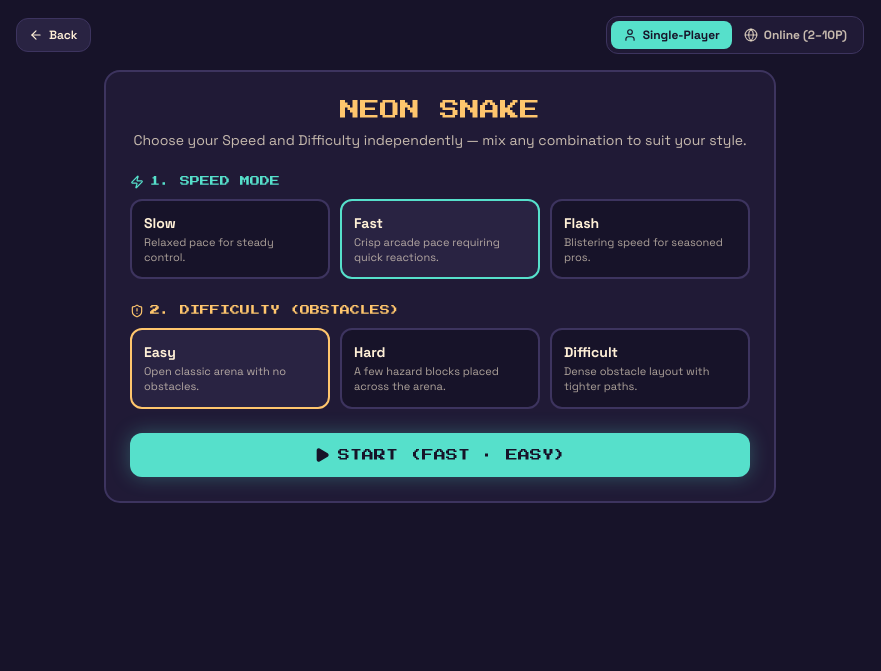
it: Feedback System, Security Rules & Pixel-Art Snake Visuals › Pixel-art Snake character visuals & preserved gameplay rules › renders enhanced pixel-art snake sprites inside SnakeGame without altering core rules
The width and height of the screenshot is (881, 671).
Click the button with test id "snake-start-btn".
click(440, 454)  # box [130,432,750,476]
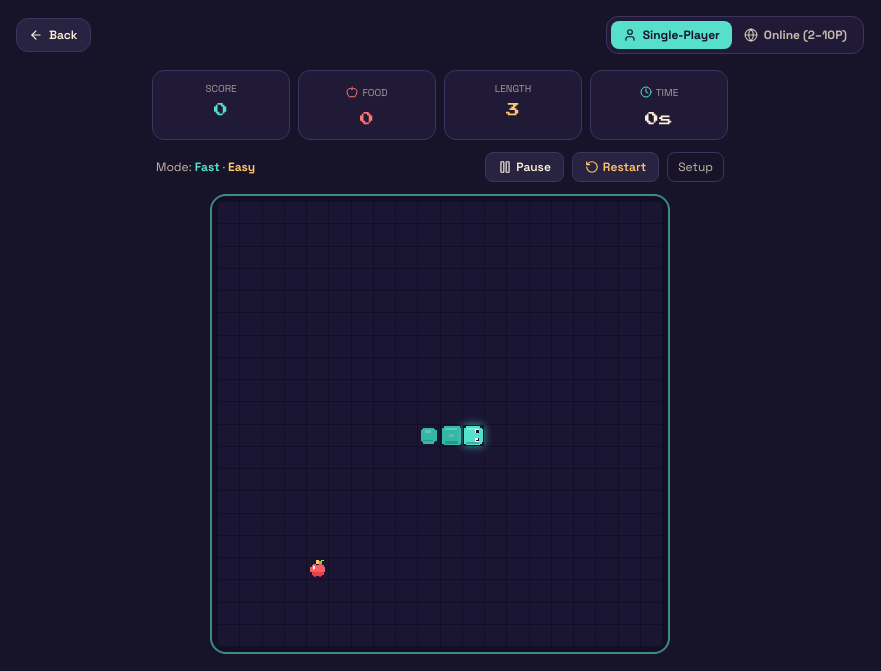
Expected: the icon with test id "snake-head-sprite" is shown, [463,424,484,446]
Expected: the icon with test id "snake-tail-sprite" is shown, [418,424,440,446]
